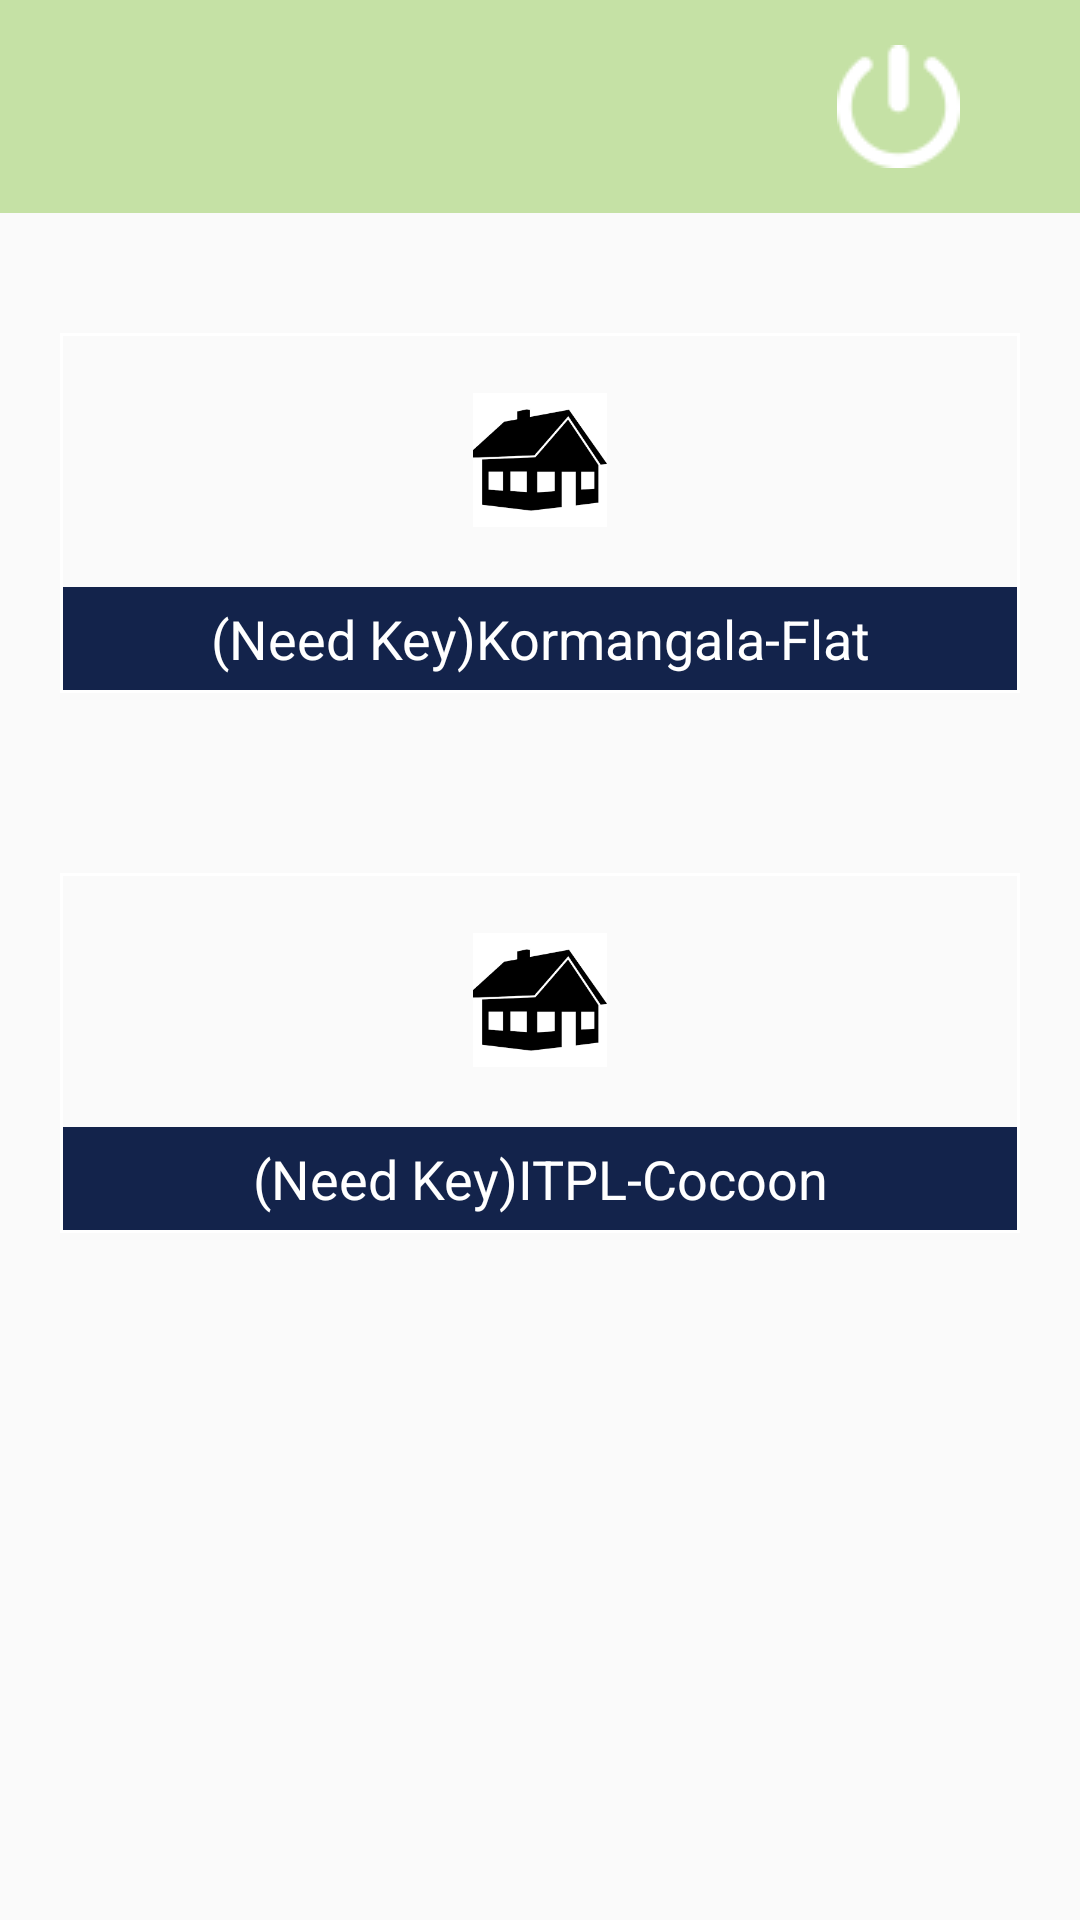

Where to tap for icons on this 1080 × 1920 app screen, as (x=x, y=y):
property: (x=540, y=460), (x=540, y=1000)
